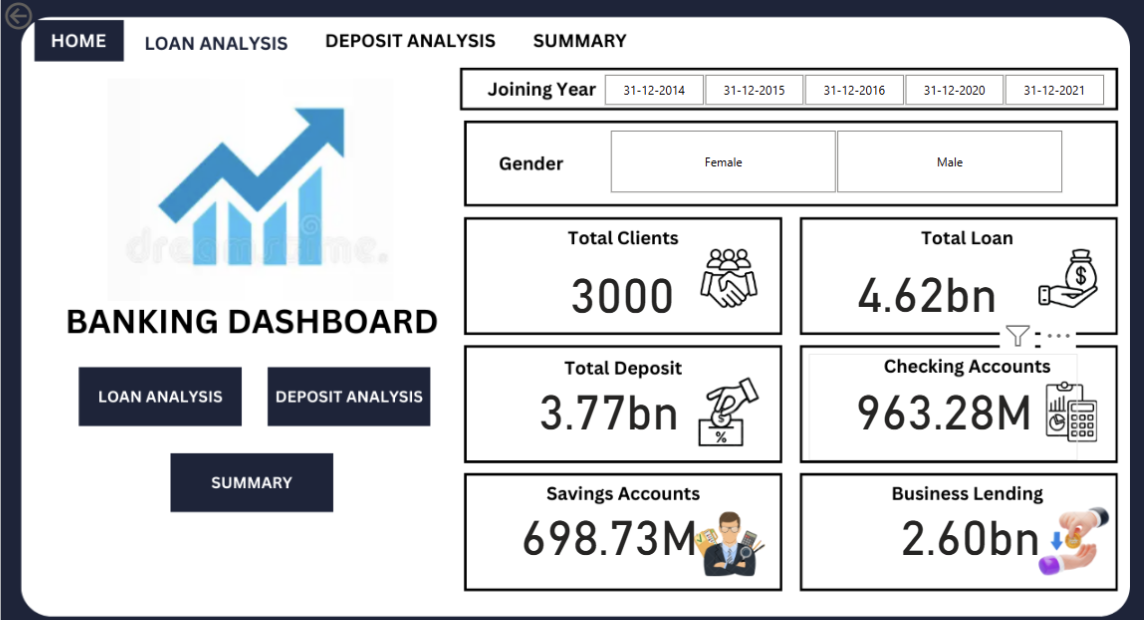

What the dashboard file says about the page in this screenshot:
{"tool":"powerbi","page":{"name":"home","canvas":[1280,720],"ordinal":0},"visuals":[{"type":"card","fields":{"Values":["banking_case customer.Name"]},"box":[553.7,275.9,279.7,96.4],"z":0},{"type":"slicer","fields":{"Values":["banking_case customer.GenderId"]},"box":[654.9,126.6,553.3,96.9],"z":1000},{"type":"card","fields":{"Values":["banking_case customer.Total Loan"]},"box":[883.1,265.7,300.1,117.2],"z":2000},{"type":"card","fields":{"Values":["banking_case customer.Total Deposits"]},"box":[528.3,397,300.1,117.2],"z":3000},{"type":"card","fields":{"Values":["banking_case customer.Checking Accounts"]},"box":[901.8,397,300.1,117.2],"z":4000},{"type":"card","fields":{"Values":["banking_case customer.Saving Accounts"]},"box":[528.3,536.1,300.1,117.2],"z":5000},{"type":"card","fields":{"Values":["banking_case customer.Business Lending"]},"box":[931.5,536.1,300.1,117.2],"z":6000},{"type":"slicer","fields":{"Values":["banking_case customer.Joined Bank"]},"box":[649,78.9,606.3,47.4],"z":7000},{"type":"actionButton","box":[0,0,100,40],"z":8000},{"type":"actionButton","box":[85.3,409,184.7,61.6],"z":9000},{"type":"actionButton","box":[285.8,410.5,184.7,61.6],"z":10000},{"type":"actionButton","box":[194.2,505.3,184.7,61.6],"z":11000}]}

Visuals, with their boxes on the page's 1280x720 design canvas (x1, y1, x2, y2). These are canvas units, not pixel positions in the 1144x620 screenshot, which may show the page scaled, cropped or inside an application window:
card - banking_case customer.Name: detection(554, 276, 833, 372)
slicer - banking_case customer.GenderId: detection(655, 127, 1208, 224)
card - banking_case customer.Total Loan: detection(883, 266, 1183, 383)
card - banking_case customer.Total Deposits: detection(528, 397, 828, 514)
card - banking_case customer.Checking Accounts: detection(902, 397, 1202, 514)
card - banking_case customer.Saving Accounts: detection(528, 536, 828, 653)
card - banking_case customer.Business Lending: detection(932, 536, 1232, 653)
slicer - banking_case customer.Joined Bank: detection(649, 79, 1255, 126)
actionButton: detection(0, 0, 100, 40)
actionButton: detection(85, 409, 270, 471)
actionButton: detection(286, 410, 470, 472)
actionButton: detection(194, 505, 379, 567)
